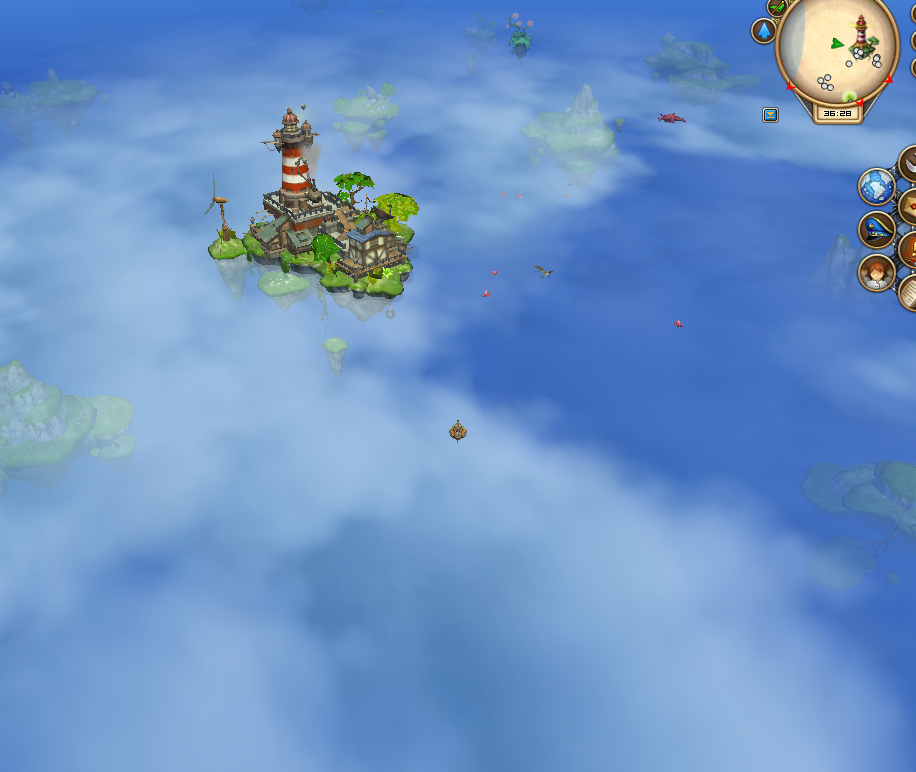dandelion-full: (505, 9, 536, 63)
